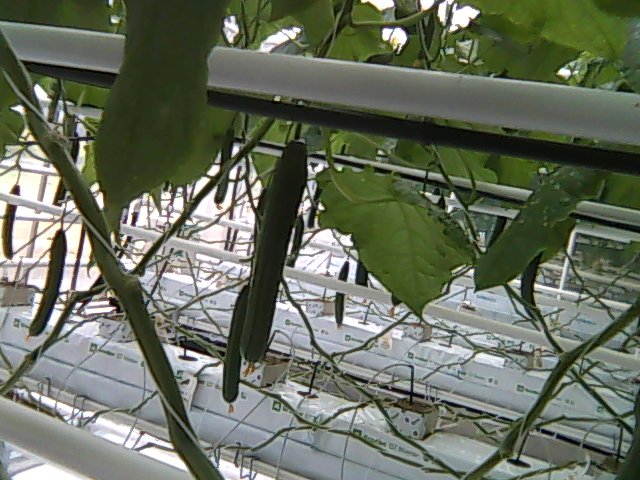concombre: (236, 120, 309, 378)
